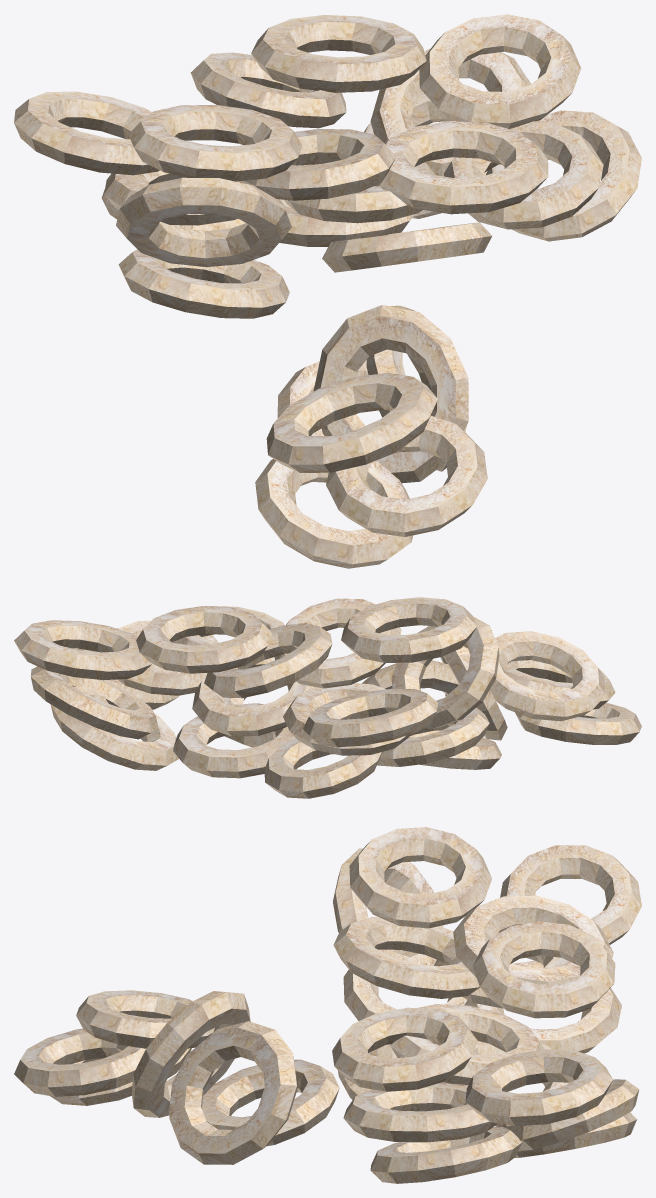
The model's file is OnionRings.fbx.
The picture shows the model from 3 angles, top to bottom: view 1: azimuth 30°, elevation 25°; view 2: azimuth 150°, elevation 25°; view 3: azimuth 270°, elevation 25°; orthographic projection. The views are drawn at different scales.
Parts seen in each view (by area): view 1: OnionRing2, OnionRingGrab, OnionRing1, OnionRing0; view 2: OnionRing2, OnionRing1, OnionRing0, OnionRingGrab; view 3: OnionRing2, OnionRingGrab, OnionRing1, OnionRing0.
Boxes of the visible parts, box(x1,y1,x2,y2) form: OnionRing2: box(14, 14, 581, 214); OnionRingGrab: box(255, 305, 487, 568); OnionRing1: box(104, 48, 603, 267); OnionRing0: box(101, 92, 641, 318); OnionRing2: box(14, 597, 477, 747); OnionRing1: box(30, 598, 499, 755); OnionRing0: box(50, 648, 489, 798); OnionRingGrab: box(362, 631, 641, 769); OnionRing2: box(332, 827, 641, 1125); OnionRingGrab: box(14, 990, 339, 1164); OnionRing1: box(333, 848, 639, 1151); OnionRing0: box(338, 949, 636, 1183).
Bounding box in the file's own units: 38.48 × 19.17 × 42.4.
